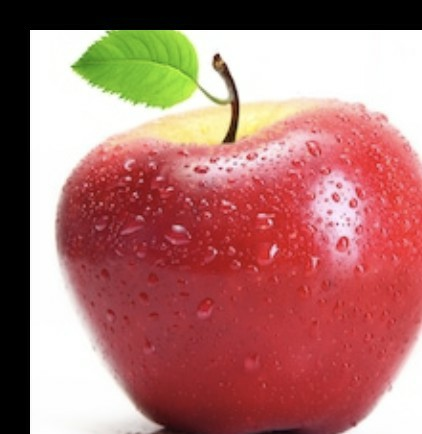fresh_apple: (58, 100, 422, 433)
